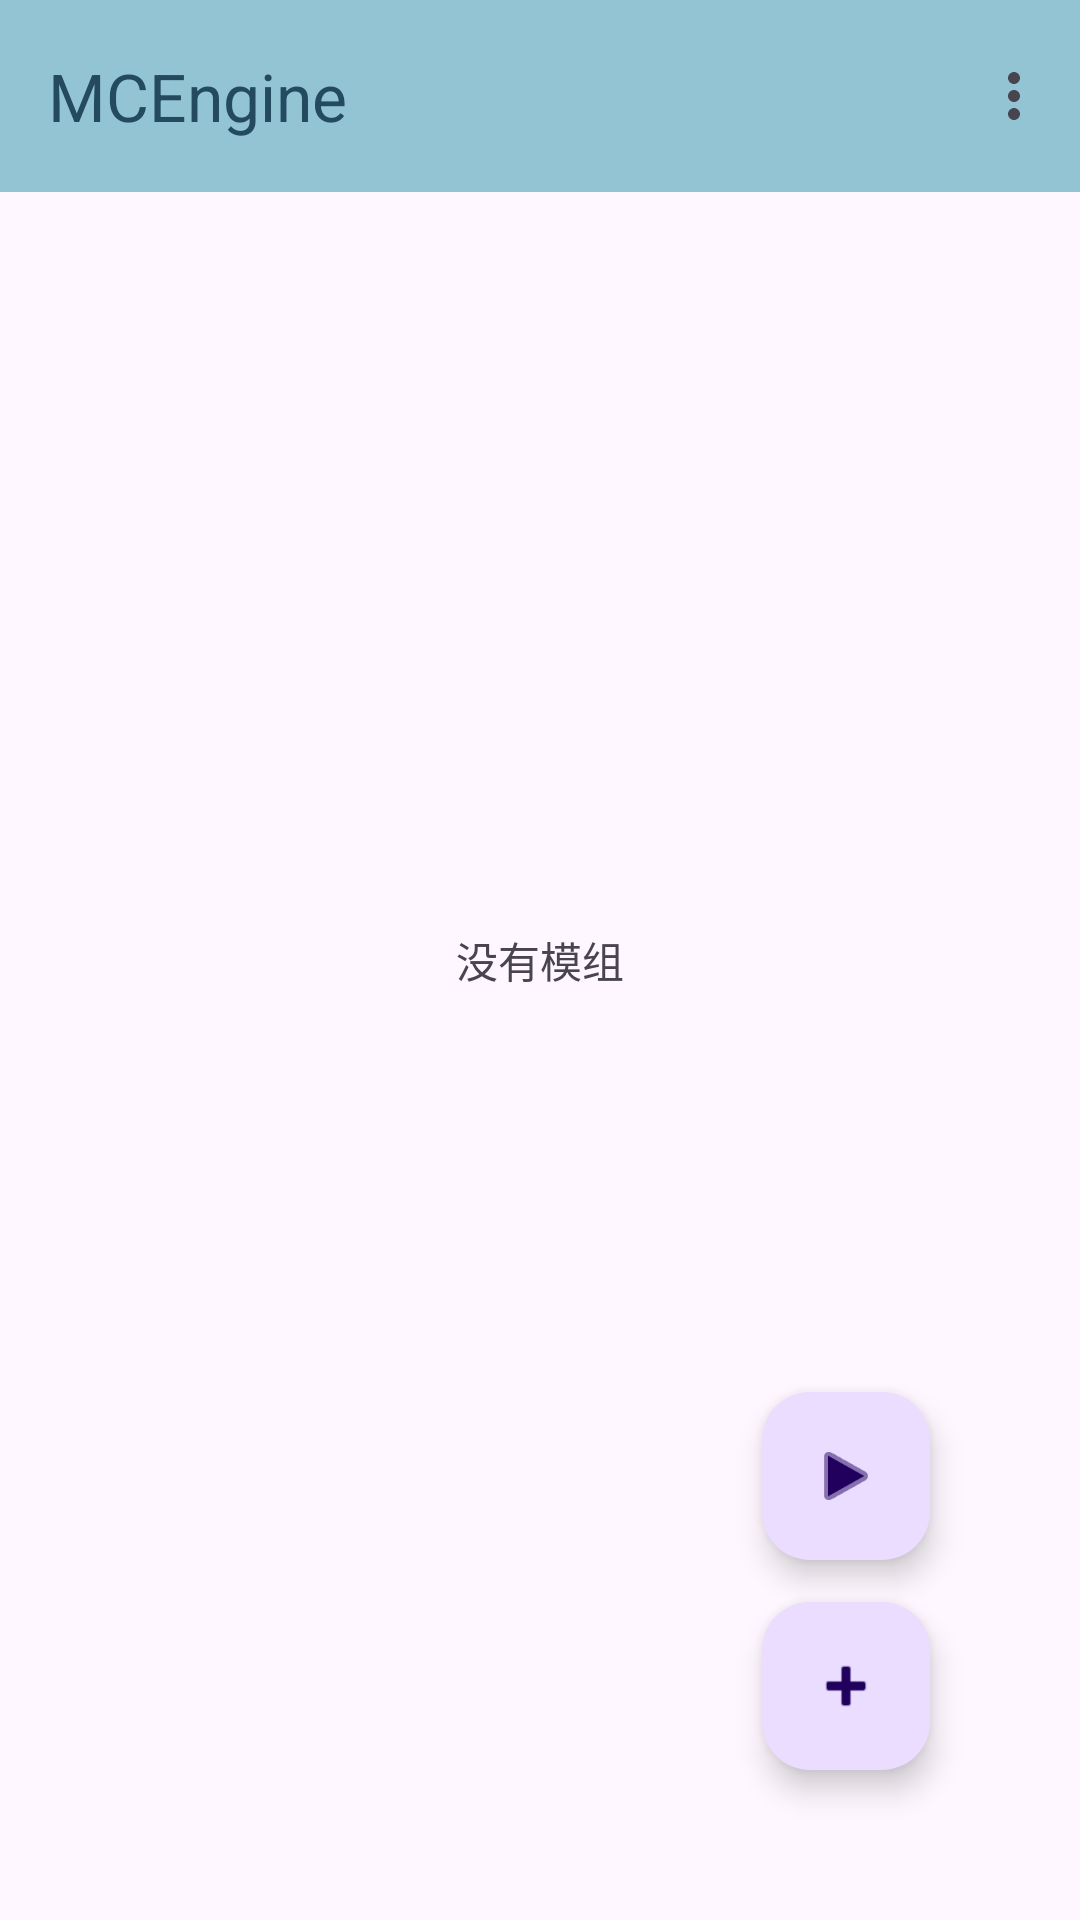

Icons on this 1080px×1920px Android screen, each with the point to tap as point (x, y):
add: point (846, 1686)
play: point (846, 1476)
